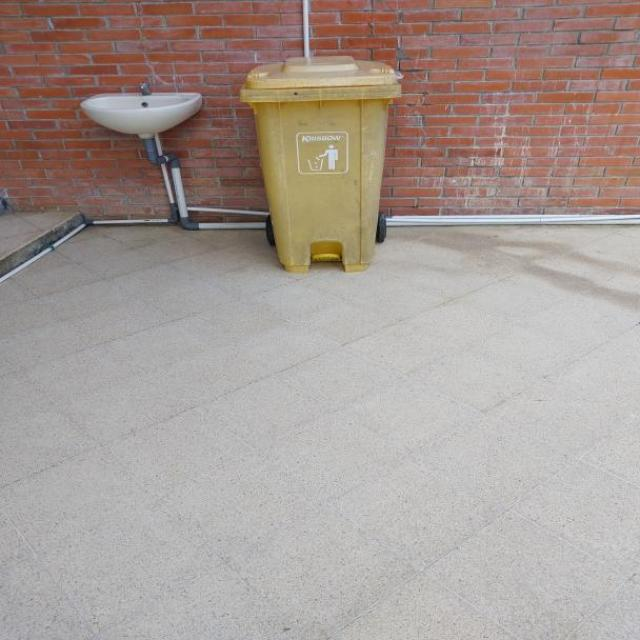dustbin ahead at: (241, 50, 412, 278)
wash basin ahead at: (74, 76, 213, 147)
